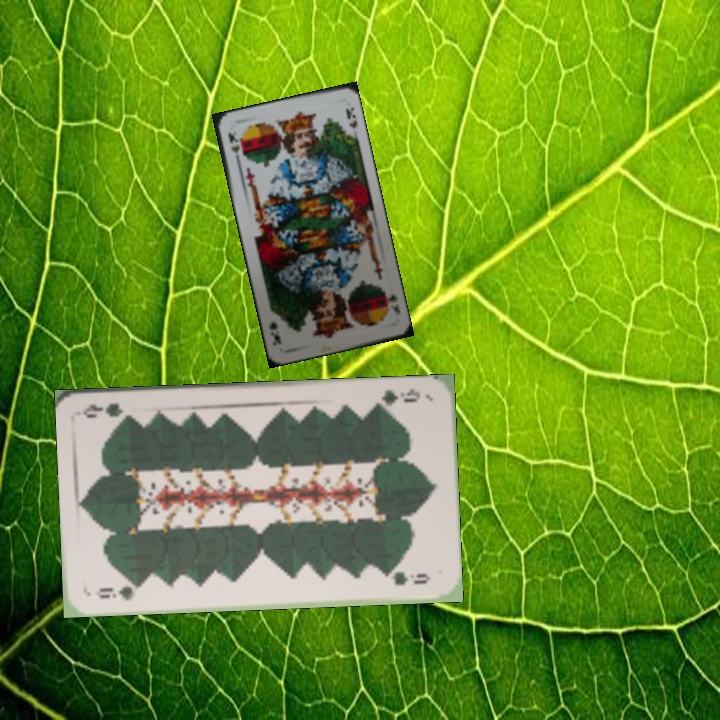G9: (370, 384, 423, 411), (95, 579, 146, 603)
SK: (379, 286, 403, 317), (224, 129, 242, 165)
